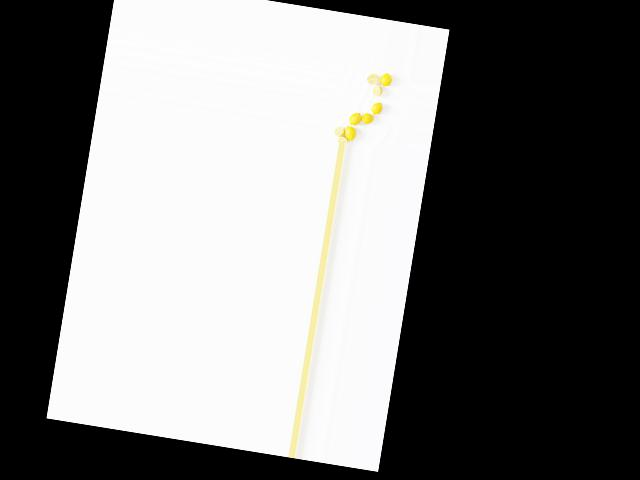lemon: (343, 120, 360, 142)
